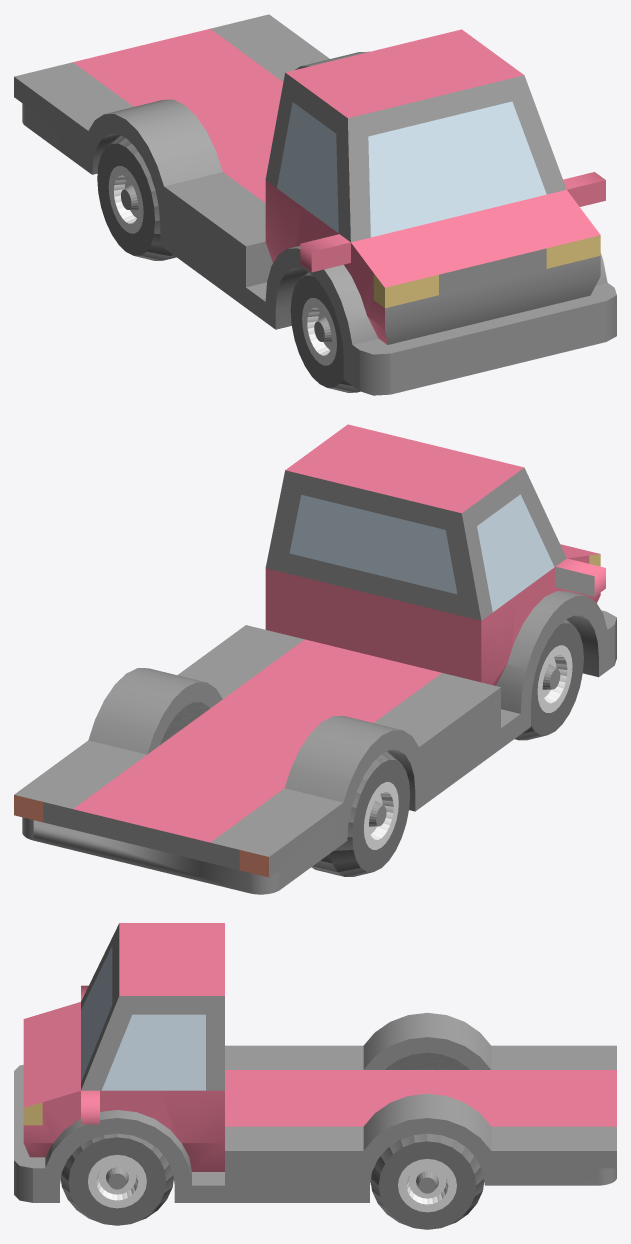
Rendered from car7.fbx.
3 views of the same model, one above another, from view 1: azimuth 30°, elevation 25°; view 2: azimuth 150°, elevation 25°; view 3: azimuth 270°, elevation 25° (orthographic). The views are drawn at different scales.
Parts seen in each view (by area): view 1: car.006; view 2: car.006; view 3: car.006.
Part boxes in pixels (box(x1,y1,x2,y2)): car.006: box(14, 14, 616, 395); car.006: box(14, 424, 616, 894); car.006: box(14, 923, 616, 1229).
Size of the model in its own units: 300 by 260 by 630.
